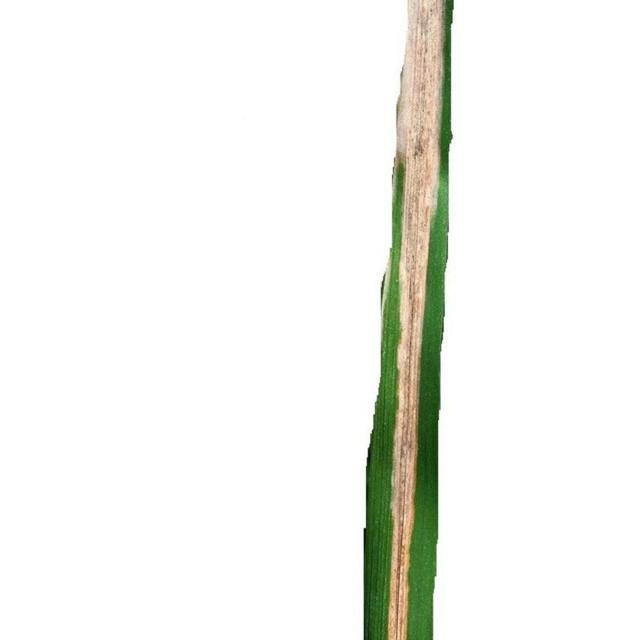leaf blight: (365, 1, 456, 640)
